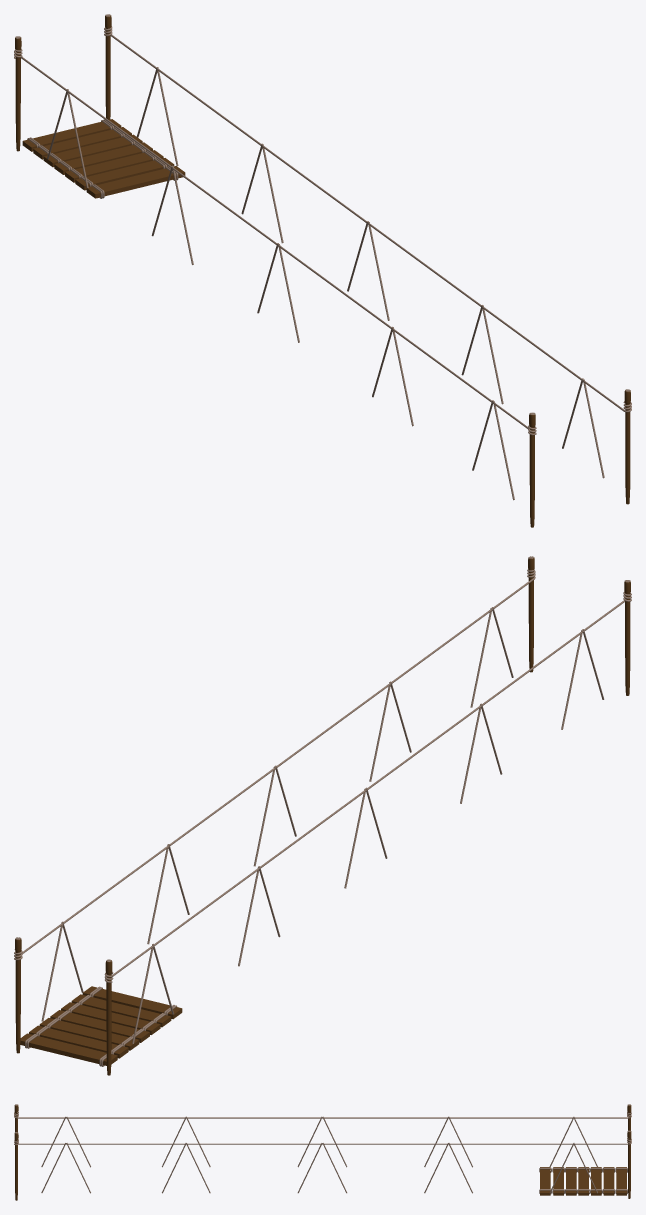
The model's file is swing_bridge_rails.fbx.
The picture shows the model from 3 angles, top to bottom: view 1: azimuth 30°, elevation 25°; view 2: azimuth 150°, elevation 25°; view 3: azimuth 270°, elevation 25°; orthographic projection. The views are drawn at different scales.
Visible parts, largest first — view 1: pCylinder2, pCylinder4, pCube9, pCube7, pCube2, pCube6, pCube5, pCube4, pCube3; view 2: pCylinder2, pCylinder4, pCube2, pCube3, pCube9, pCube4, pCube5, pCube7, pCube6; view 3: pCylinder4, pCylinder2, pCube3, pCube2, pCube6, pCube9, pCube5, pCube4, pCube7, pCylinder1, pCylinder6.
Boxes of the visible parts, <box> form: pCylinder2: <box>110,35,624,411</box>; pCylinder4: <box>21,57,528,428</box>; pCube9: <box>86,166,185,198</box>; pCube7: <box>75,158,174,190</box>; pCube2: <box>22,119,121,151</box>; pCube6: <box>65,150,163,182</box>; pCube5: <box>54,142,152,174</box>; pCube4: <box>43,134,142,167</box>; pCube3: <box>33,127,131,159</box>; pCylinder2: <box>15,578,534,957</box>; pCylinder4: <box>113,600,624,976</box>; pCube2: <box>20,1033,117,1065</box>; pCube3: <box>29,1025,128,1058</box>; pCube9: <box>82,986,182,1019</box>; pCube4: <box>39,1018,139,1050</box>; pCube5: <box>50,1010,149,1042</box>; pCube7: <box>71,994,171,1027</box>; pCube6: <box>61,1002,160,1034</box>; pCylinder4: <box>17,1117,629,1118</box>; pCylinder2: <box>19,1143,629,1144</box>; pCube3: <box>603,1167,614,1195</box>; pCube2: <box>616,1167,626,1195</box>; pCube6: <box>566,1167,576,1195</box>; pCube9: <box>540,1167,550,1195</box>; pCube5: <box>578,1167,588,1195</box>; pCube4: <box>591,1167,601,1195</box>; pCube7: <box>553,1167,563,1195</box>; pCylinder1: <box>627,1130,631,1198</box>; pCylinder6: <box>14,1132,18,1200</box>.
Size of the model in its own units: 8.39 by 8.83 by 73.27.
